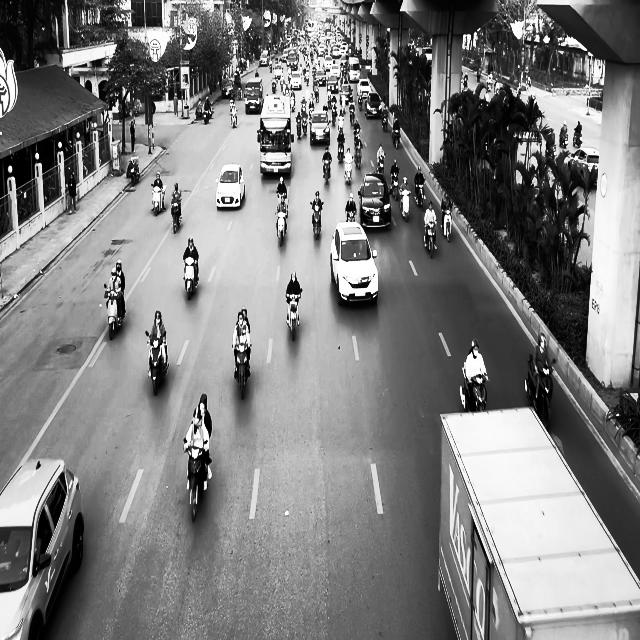bus: (258, 94, 292, 175)
car: (0, 457, 84, 639), (330, 221, 378, 305), (358, 172, 391, 229), (215, 163, 245, 210), (566, 147, 599, 187), (310, 111, 330, 146)
motorbike: (524, 354, 557, 429), (183, 437, 211, 522), (145, 330, 169, 396), (459, 364, 488, 412), (103, 283, 125, 340), (232, 343, 250, 399), (285, 288, 302, 341), (183, 257, 198, 300), (310, 201, 323, 240), (151, 183, 166, 216), (275, 210, 288, 246), (424, 221, 436, 258), (126, 157, 140, 186), (441, 206, 452, 242), (170, 201, 182, 233), (399, 189, 410, 222), (322, 156, 332, 184), (392, 129, 401, 148), (230, 106, 237, 128), (573, 130, 582, 147)
truck: (437, 405, 640, 639)
